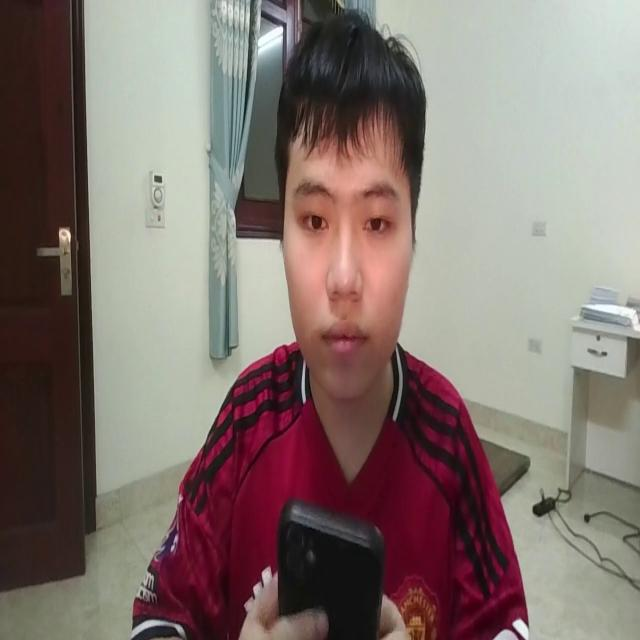phone: (276, 488, 389, 638)
student: (126, 6, 533, 640)
